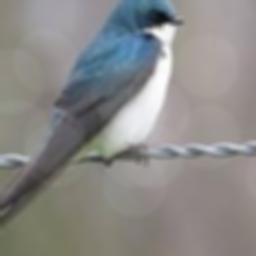Swallow: (0, 0, 187, 230)
